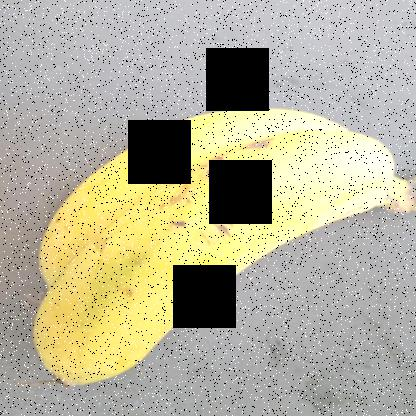ripe: (30, 136, 405, 394)
